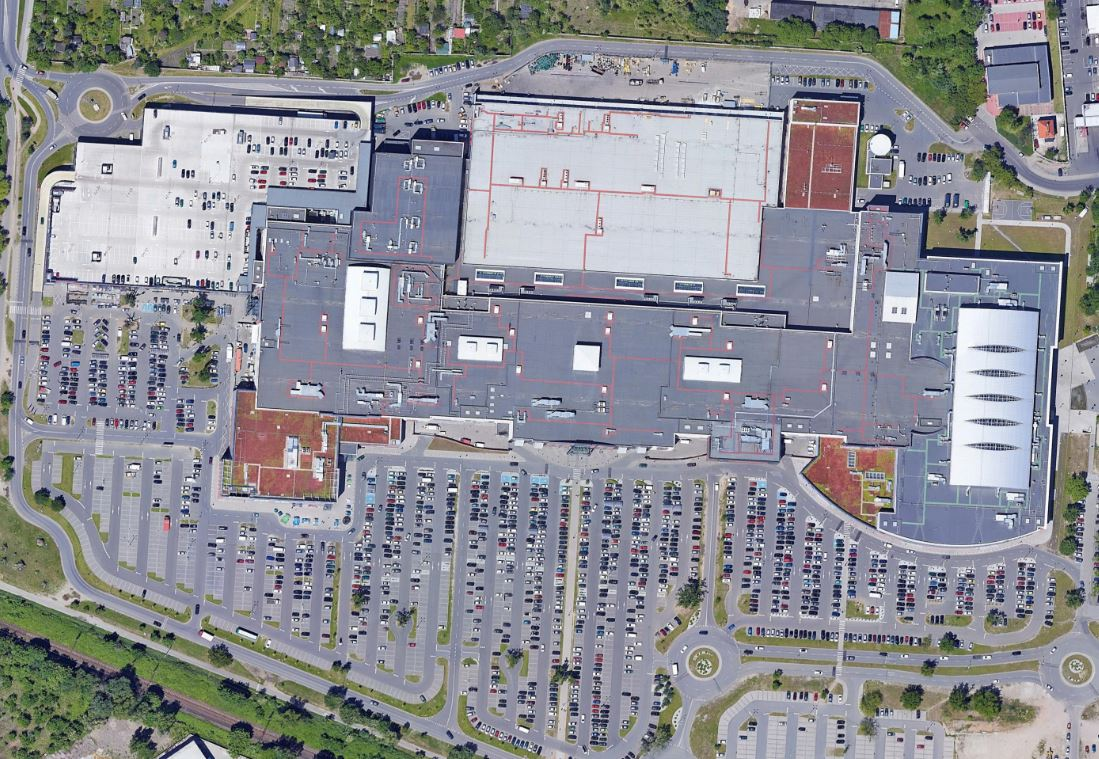shopping_center: (35, 64, 1064, 581)
